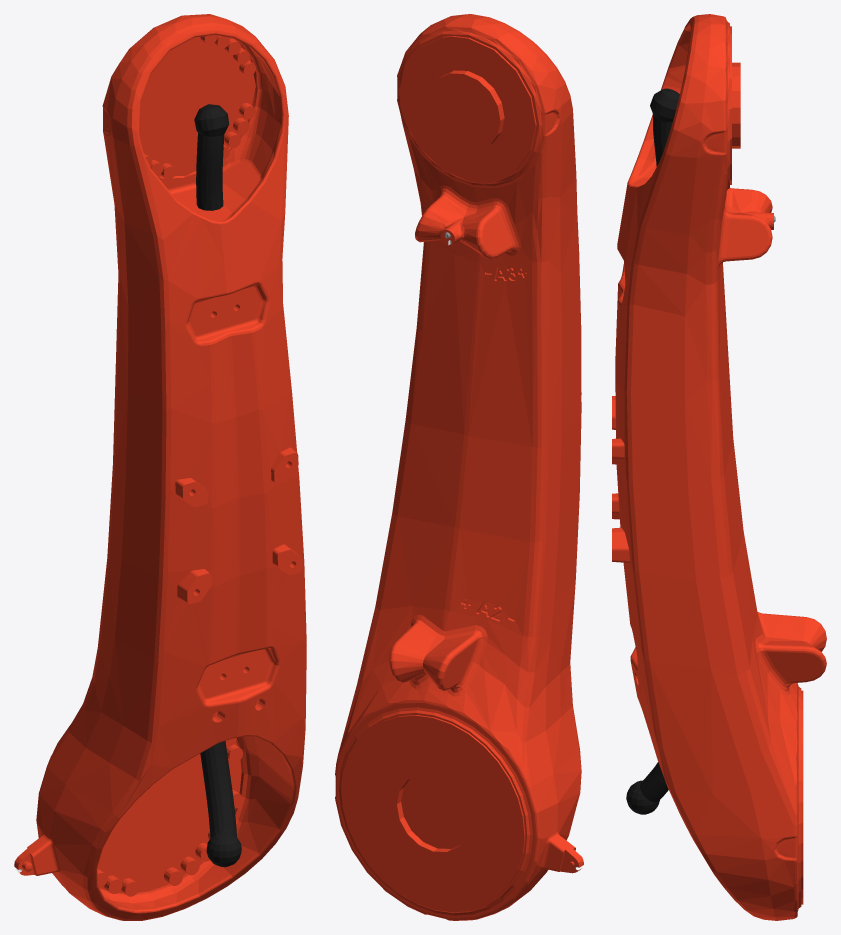
3 views of the same model, side by side, from view 1: azimuth 30°, elevation 25°; view 2: azimuth 150°, elevation 25°; view 3: azimuth 270°, elevation 25° (orthographic). The views are drawn at different scales.
Parts seen in each view (by area): view 1: link_2; view 2: link_2; view 3: link_2.
Boxes of the visible parts, <box> form: link_2: <box>14,14,306,920</box>; link_2: <box>335,14,583,920</box>; link_2: <box>612,14,826,920</box>.
Bounding box in the file's own units: 0.3262 × 0.2505 × 1.14.
